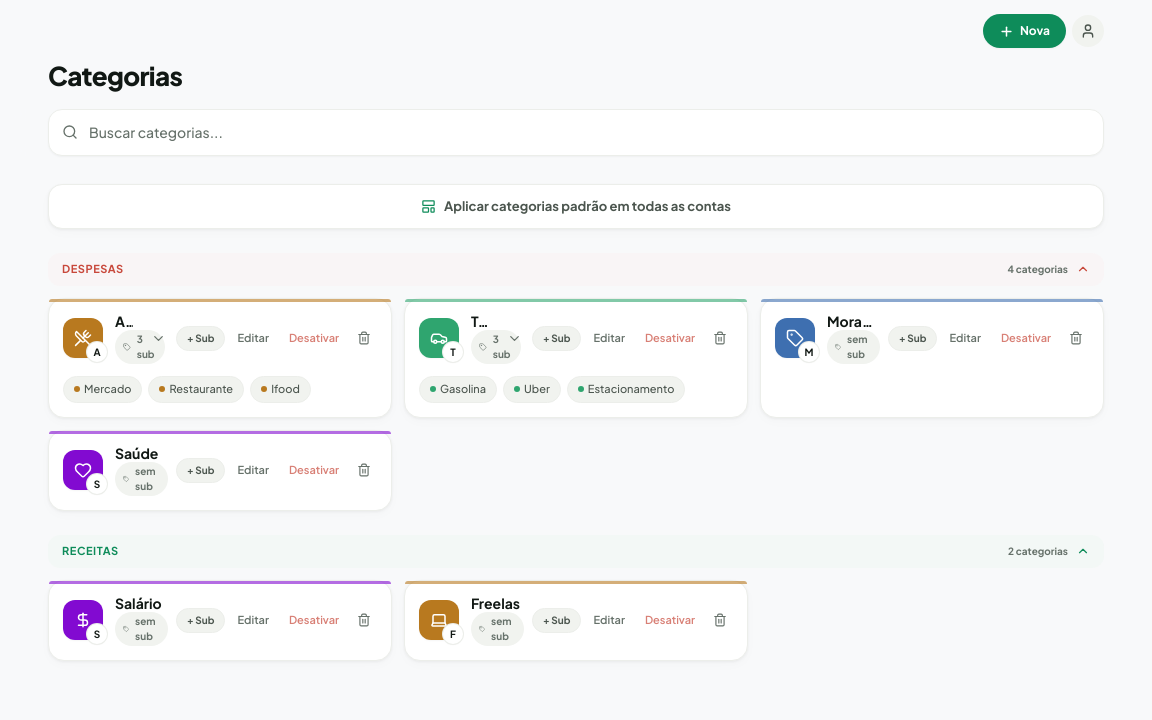
Test: CategoriesPage – Redesign Moderno (TDD RED) › seletor de categorias moderno permite filtrar e visualizar por grupo sem travamentos
The width and height of the screenshot is (1152, 720).
# busca por grupo: digitar "Salário" deve mostrar apenas Receitas
Type "Salário" into the field with placeholder "Buscar categorias...". click: (576, 132)
box: [48,108,1104,156]
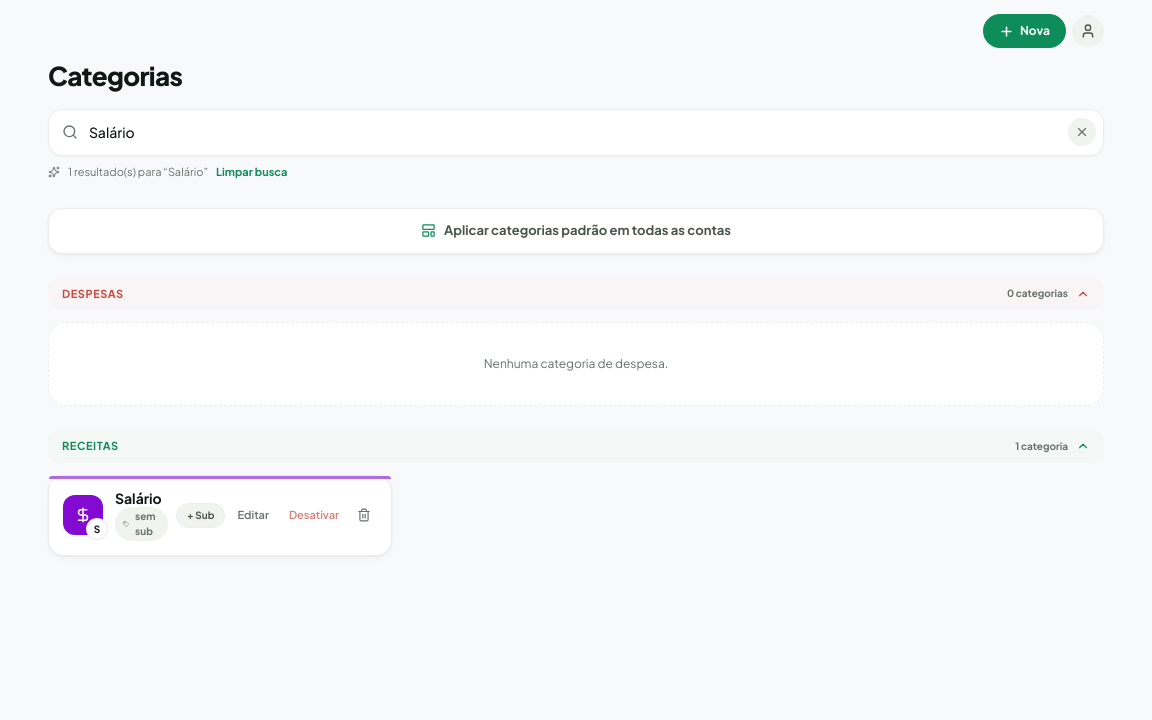
Expected: the text "Salário" is shown, [115,490,164,507]
Result: the text "Alimentação" is gone
Replace the text in the field with placeholder "Buscar categorias..." with "Alim". click: (576, 132)
box: [48,108,1104,156]
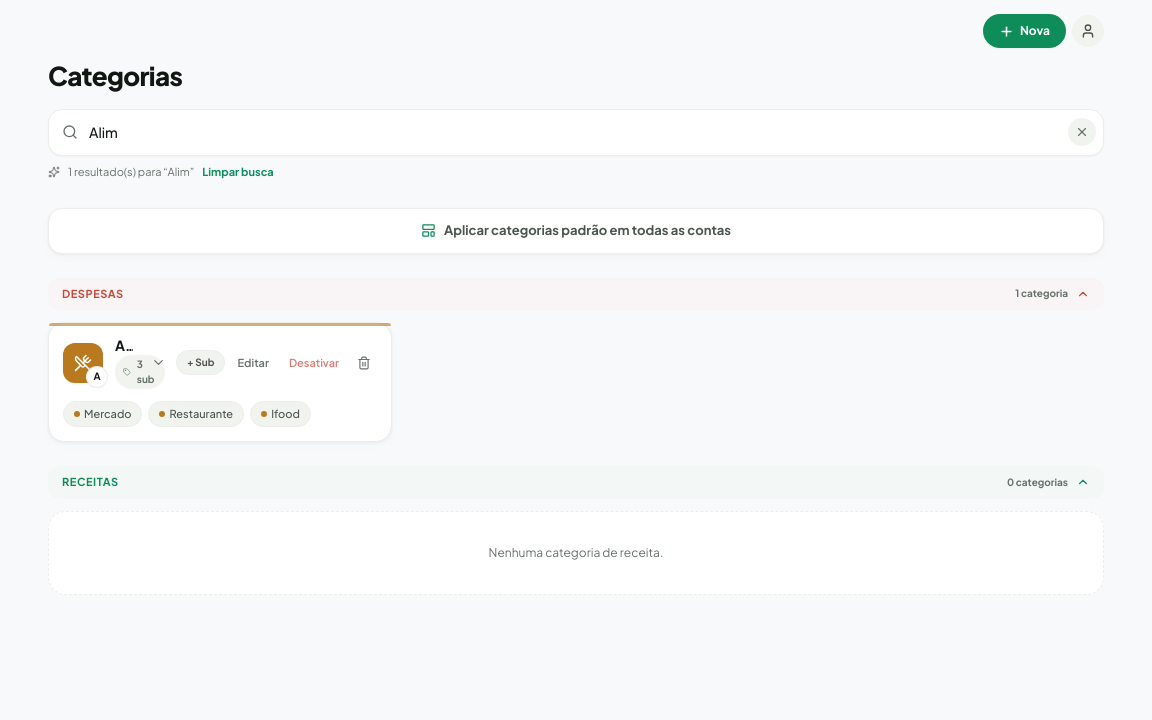
Result: the text "Alimentação" is shown at [115,337,133,354]
